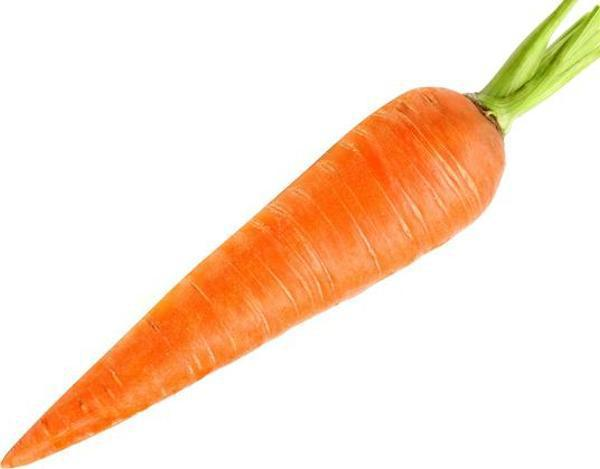carrot: (4, 3, 600, 466)
